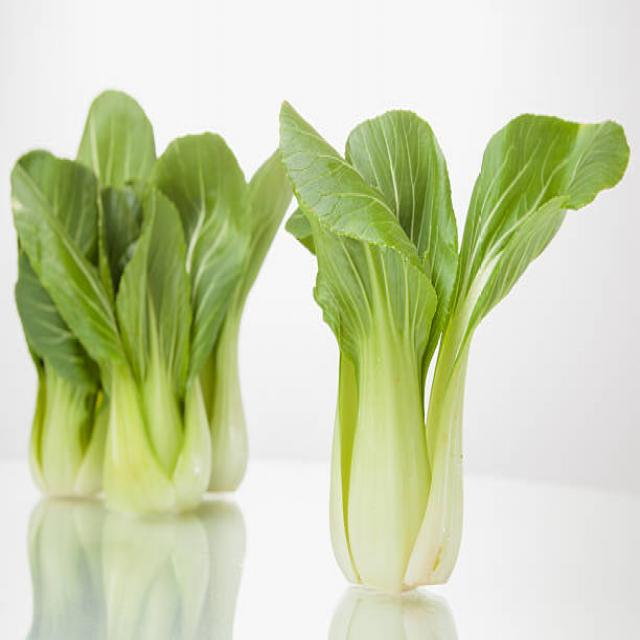Bok Choy: (290, 95, 598, 586), (89, 187, 210, 522)
